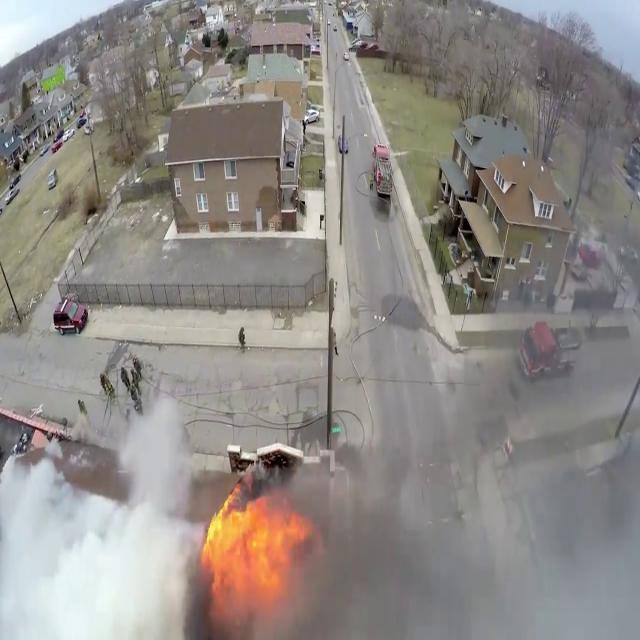Fire: (202, 490, 310, 600)
Smoke: (317, 300, 640, 640), (0, 367, 222, 640)
